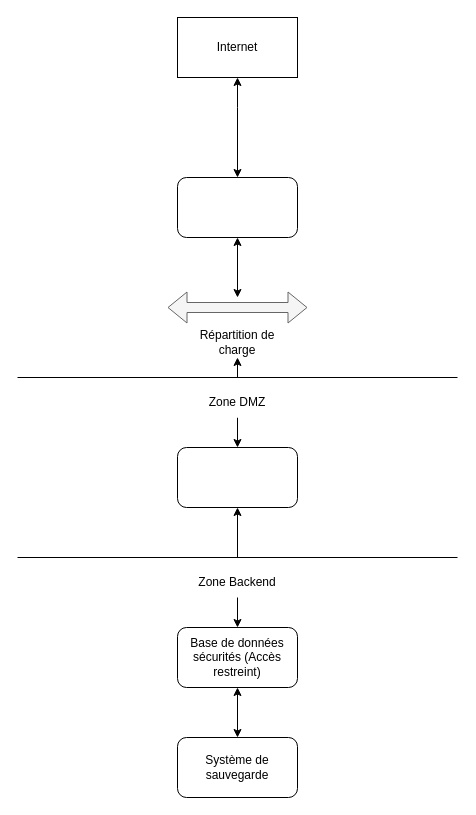
The diagram is 476 pixels wide and 815 high, and some of its shapes have lost their labels. Here are the shapes that lost their labels. From the top down, the box of each, then its label:
(176, 176, 298, 238): WAF
(176, 446, 298, 508): SecureBank API Docker
